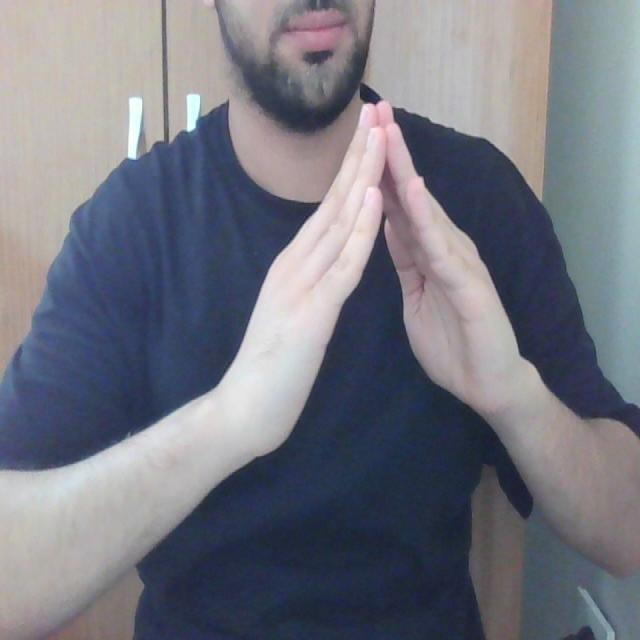Ev: (223, 93, 532, 462)
